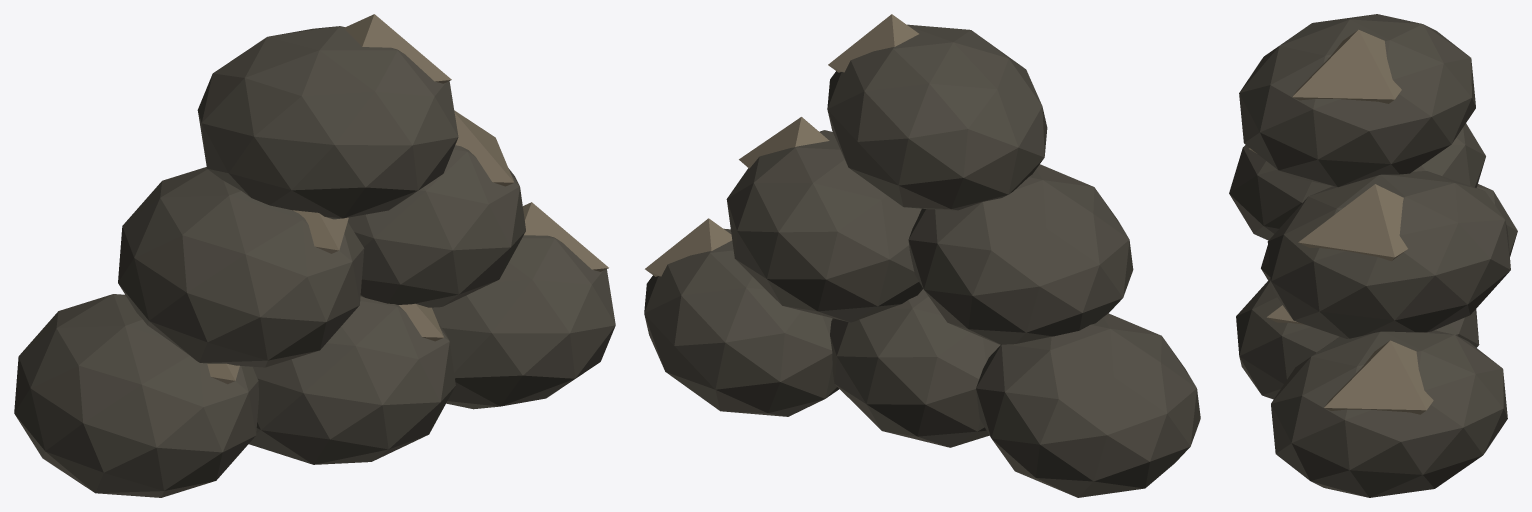
File: pile-stone-6.obj
3 views of the same model, side by side, from view 1: azimuth 30°, elevation 25°; view 2: azimuth 150°, elevation 25°; view 3: azimuth 270°, elevation 25° (orthographic). The views are drawn at different scales.
Parts seen in each view (by area): view 1: pile-stone-6; view 2: pile-stone-6; view 3: pile-stone-6.
Boxes of the visible parts, x1,y1,x2,y2 form: pile-stone-6: [14, 14, 615, 497]; pile-stone-6: [644, 14, 1200, 497]; pile-stone-6: [1229, 14, 1517, 497].
Bounding box in the file's own units: 0.8581 × 0.6229 × 0.4095.
Materials: 1 (1 with a texture image).
